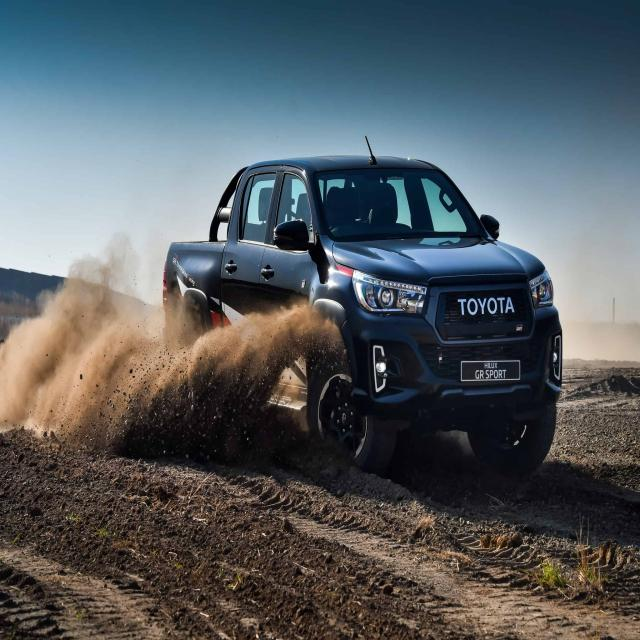Pickup Trucks: (162, 144, 564, 479)
